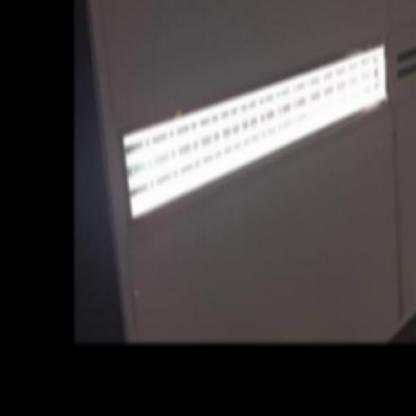light_on: (120, 29, 401, 237)
